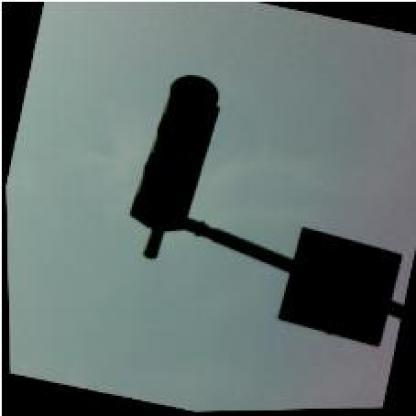red: (122, 67, 226, 241)
